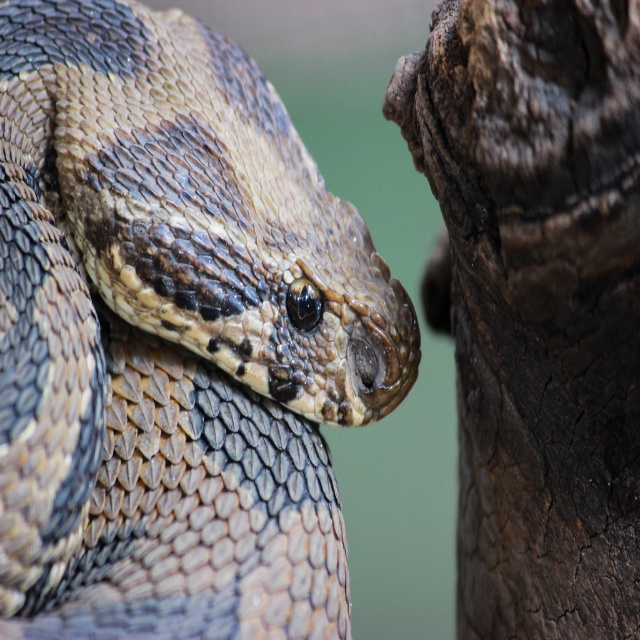Snake: (0, 0, 423, 639)
